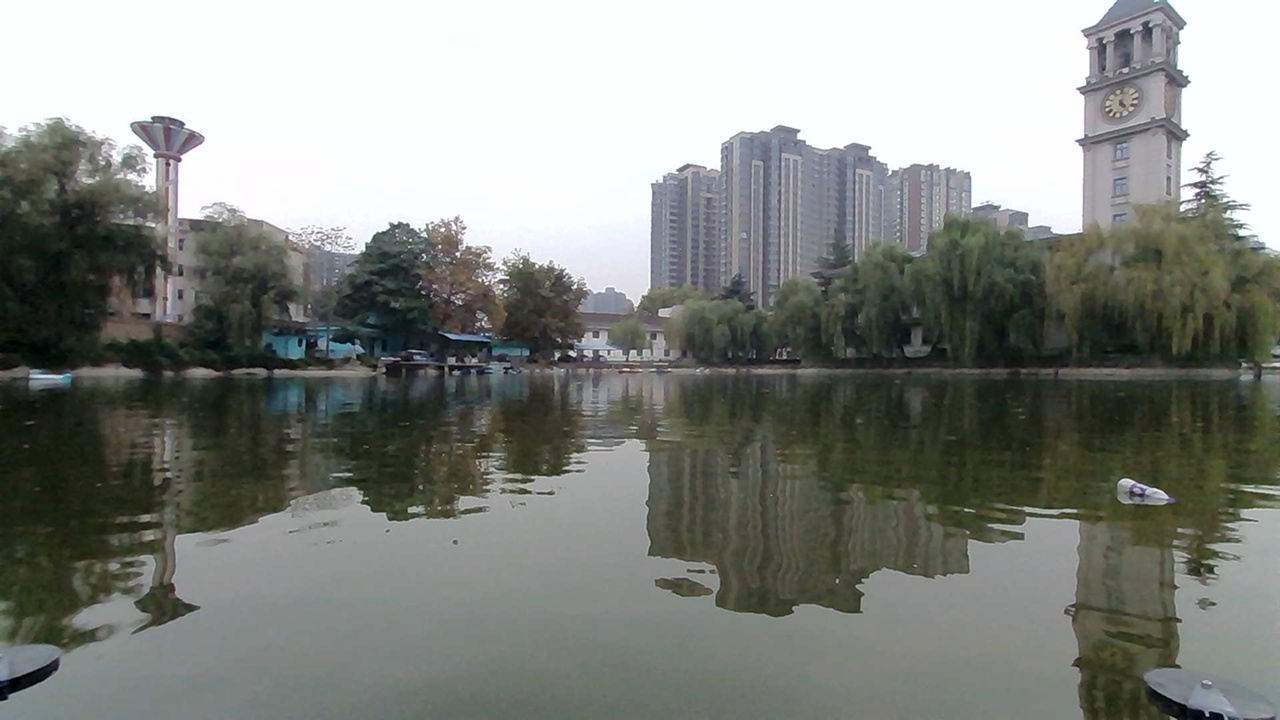bottle: (1096, 463, 1182, 514)
